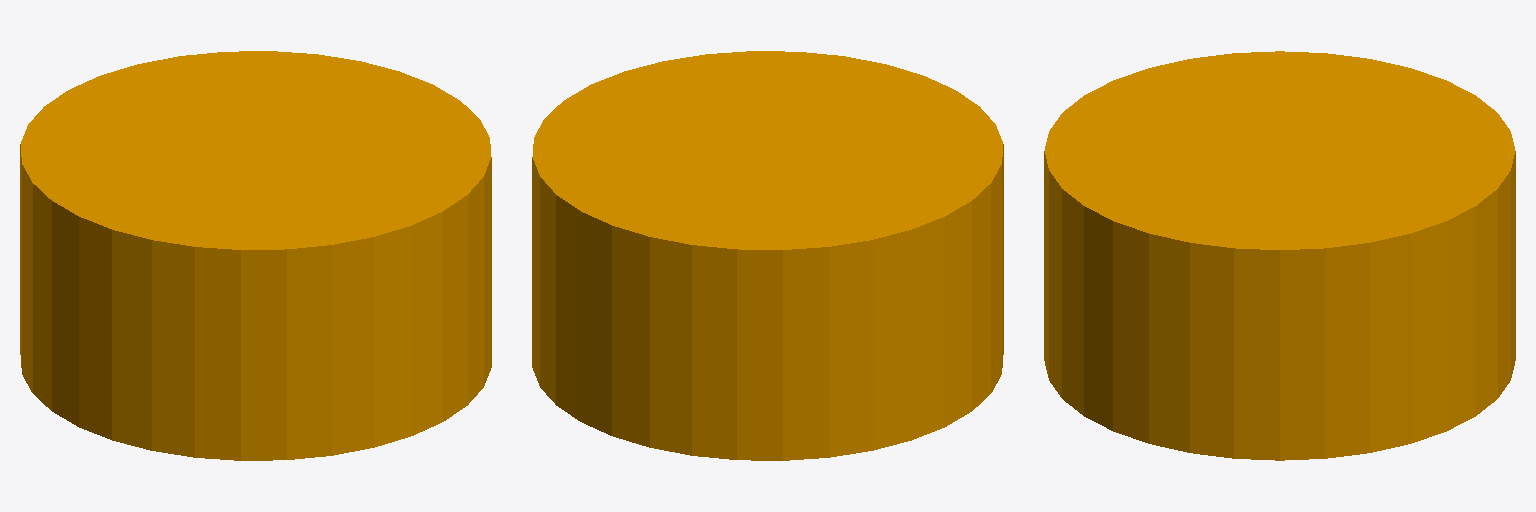
The robot description file, URDF, robot "2v2_test_hand_cylinder_small":
<?xml version="1.0" ?>
<robot name="2v2_test_hand_cylinder_small">

    <link name="2v2_test_hand_cylinder_small">
        <visual>
            <origin rpy="1.5707963267948966 0 0" xyz="0 0 0"/>
            <geometry>
                <mesh filename="obj_files/2v2_test_hand_cylinder_small.obj" scale="1 1 1"/>
            </geometry>
        </visual>
        <collision>
            <geometry>
                <mesh filename="obj_files/2v2_test_hand_cylinder_small_collision.obj" scale="1 1 1"/>
            </geometry>
        </collision>
    </link>

</robot>

--- Facts derived from the render (not from the file) ---
Views: 3 orthographic renders of the robot side by side, from view 1: azimuth 30°, elevation 25°; view 2: azimuth 150°, elevation 25°; view 3: azimuth 270°, elevation 25°.
Model 2v2_test_hand_cylinder_small with 1 links and 0 joints (none), rooted at 2v2_test_hand_cylinder_small, posed every joint at zero.
Links seen in each view (by area): view 1: 2v2_test_hand_cylinder_small; view 2: 2v2_test_hand_cylinder_small; view 3: 2v2_test_hand_cylinder_small.
Link boxes in pixels (x1,y1,x2,y2): 2v2_test_hand_cylinder_small: (20,51,491,460); 2v2_test_hand_cylinder_small: (532,51,1003,460); 2v2_test_hand_cylinder_small: (1044,51,1515,460).
Size in the robot's own frame: 0.1217 by 0.1217 by 0.06 metres.
Meshes: 1 distinct files referenced, 1 mesh visuals loaded (1 OBJ).